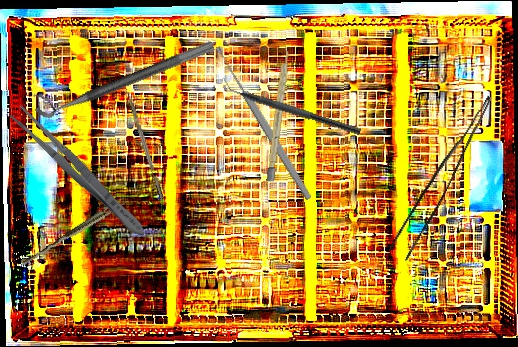Chopper: (218, 75, 365, 136), (120, 87, 164, 201)
Dressing Forceps: (6, 101, 152, 243)
Fixation Ring: (29, 25, 216, 123)
Scalpel Handle: (266, 45, 291, 183)
Surgical Spoon: (213, 44, 314, 202)
Tissue Forceps: (387, 86, 493, 264), (20, 194, 128, 270)
